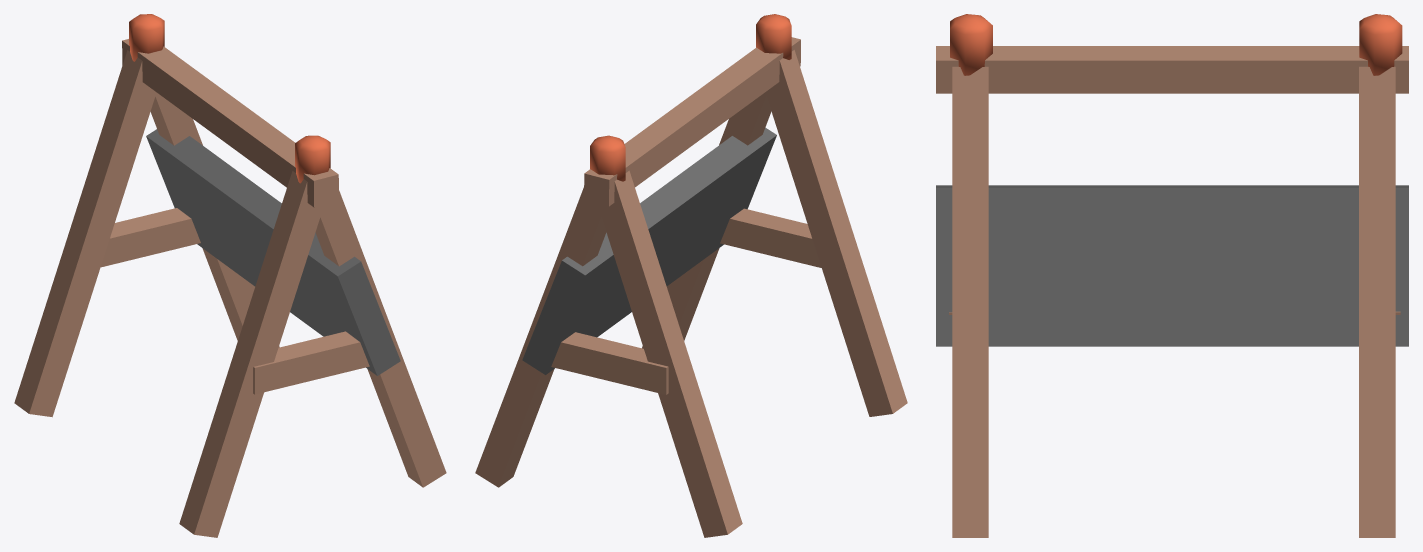
The model's file is stay_fetch.gltf.
The picture shows the model from 3 angles, left to right: view 1: azimuth 30°, elevation 25°; view 2: azimuth 150°, elevation 25°; view 3: azimuth 270°, elevation 25°; orthographic projection. The views are drawn at different scales.
Visible parts, largest first — view 1: Cube.005, Cube.003, Cube, Cube.004, Cube.001, Cube.006, Cube.007, Cube.002, Cylinder, Cylinder.001; view 2: Cube.005, Cube, Cube.003, Cube.004, Cube.002, Cube.007, Cube.006, Cube.001, Cylinder, Cylinder.001; view 3: Cube.005, Cube.004, Cube.001, Cube.002, Cylinder.001, Cylinder.
Boxes of the visible parts, x1,y1,x2,y2 form: Cube.005: (146, 129, 400, 375); Cube.003: (14, 50, 155, 417); Cube: (179, 171, 323, 537); Cube.004: (122, 39, 338, 207); Cube.001: (315, 190, 446, 487); Cube.006: (253, 331, 369, 394); Cube.007: (101, 208, 200, 267); Cube.002: (150, 90, 279, 347); Cylinder: (295, 135, 330, 183); Cylinder.001: (129, 14, 164, 61); Cube.005: (522, 127, 776, 374); Cube: (765, 50, 907, 416); Cube.003: (597, 170, 742, 537); Cube.004: (584, 37, 800, 206); Cube.002: (475, 187, 606, 487); Cube.007: (551, 332, 668, 394); Cube.006: (720, 208, 821, 267); Cube.001: (642, 90, 771, 348); Cylinder: (756, 14, 791, 59); Cylinder.001: (590, 135, 625, 181); Cube.005: (936, 185, 1408, 346); Cube.004: (936, 46, 1408, 93); Cube.001: (952, 66, 988, 537); Cube.002: (1359, 66, 1395, 537); Cylinder.001: (1359, 14, 1402, 75); Cylinder: (950, 14, 992, 75).
Bounding box in the file's own units: 4 × 5.59 × 5.25.
